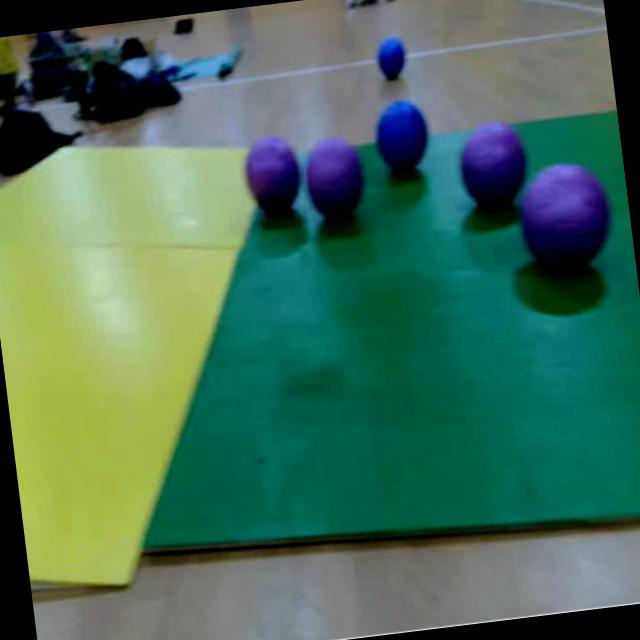blue_ball: (368, 90, 438, 181), (372, 31, 413, 80)
purple_ball: (511, 155, 621, 287), (454, 113, 535, 221), (302, 132, 372, 227), (241, 132, 306, 220)
